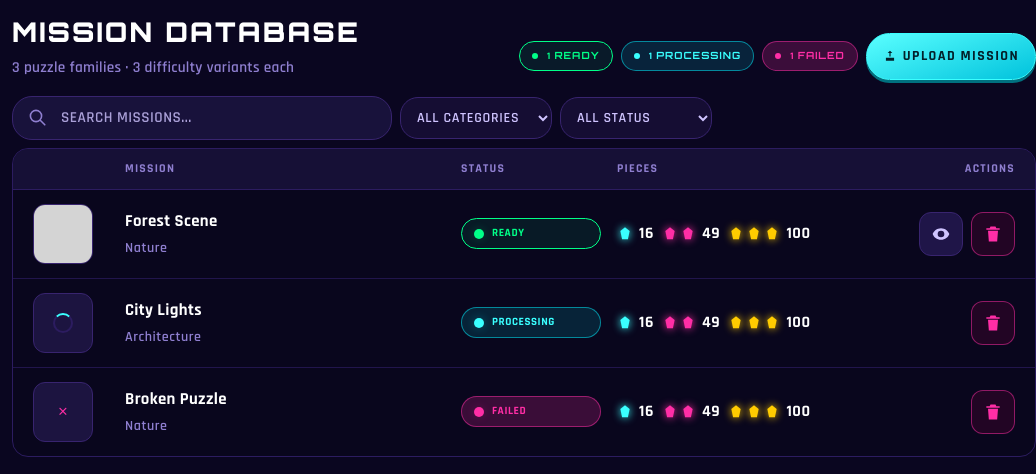
AdminPuzzlesPanel › resets all active criteria
expect the text "Forest Scene" is shown: met, box [125,210,218,232]
Step 1. Type "Puzzle" into the search field named "Search puzzles" → (202, 118), box [12,96,392,140]
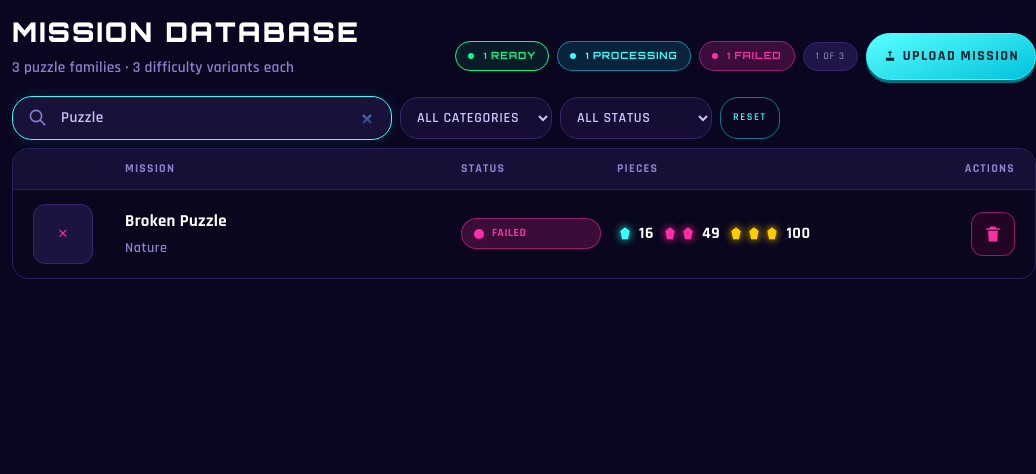
Step 2. Select "NATURE" in the dropdown named "Filter by category" → (476, 118), box [400,97,552,139]
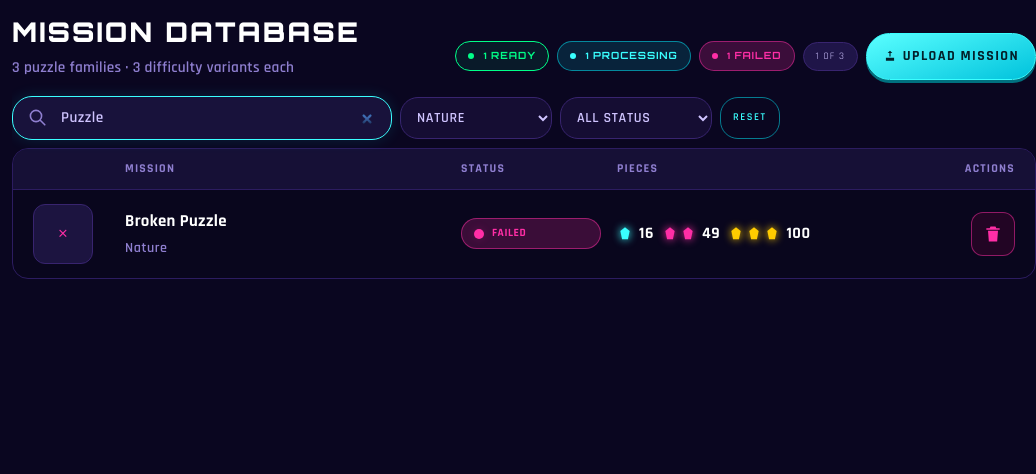
Step 3. Select "FAILED" in the dropdown named "Filter by status" → (636, 118), box [560,97,712,139]
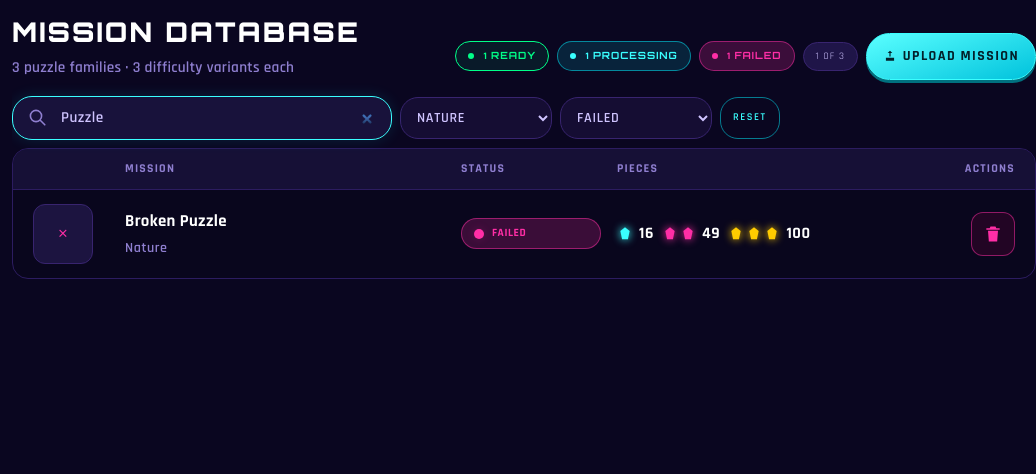
Step 4. Click the button "RESET" → (750, 118), box [720,97,780,139]
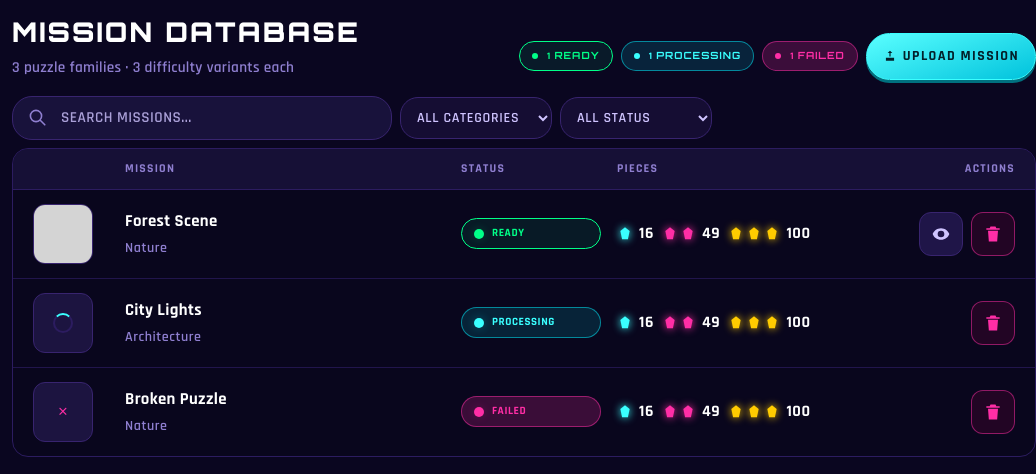
expect the search field named "Search puzzles" is empty: met, box [12,96,392,140]
expect the text "Forest Scene" is shown: met, box [125,210,218,232]
expect the text "City Lights" is shown: met, box [125,299,202,321]
